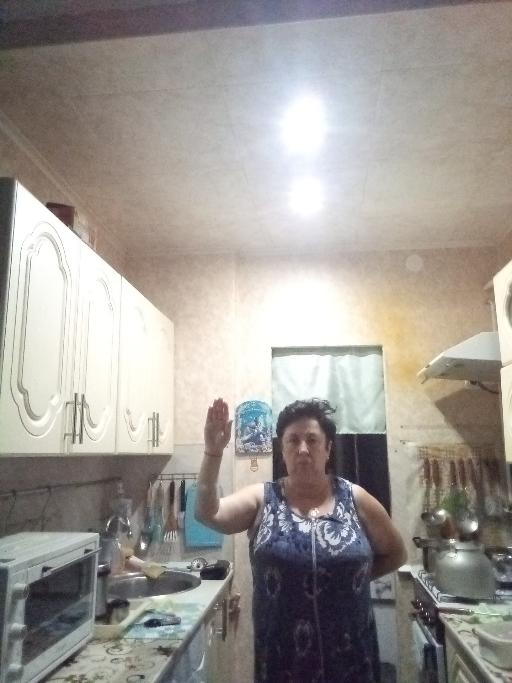stop: (201, 396, 233, 452)
